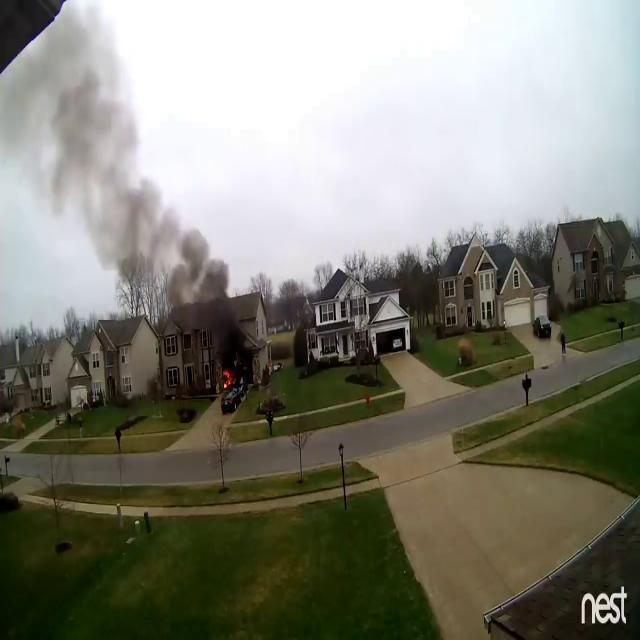Fire: (220, 368, 233, 391)
Smoke: (27, 10, 161, 270), (142, 186, 242, 362)
